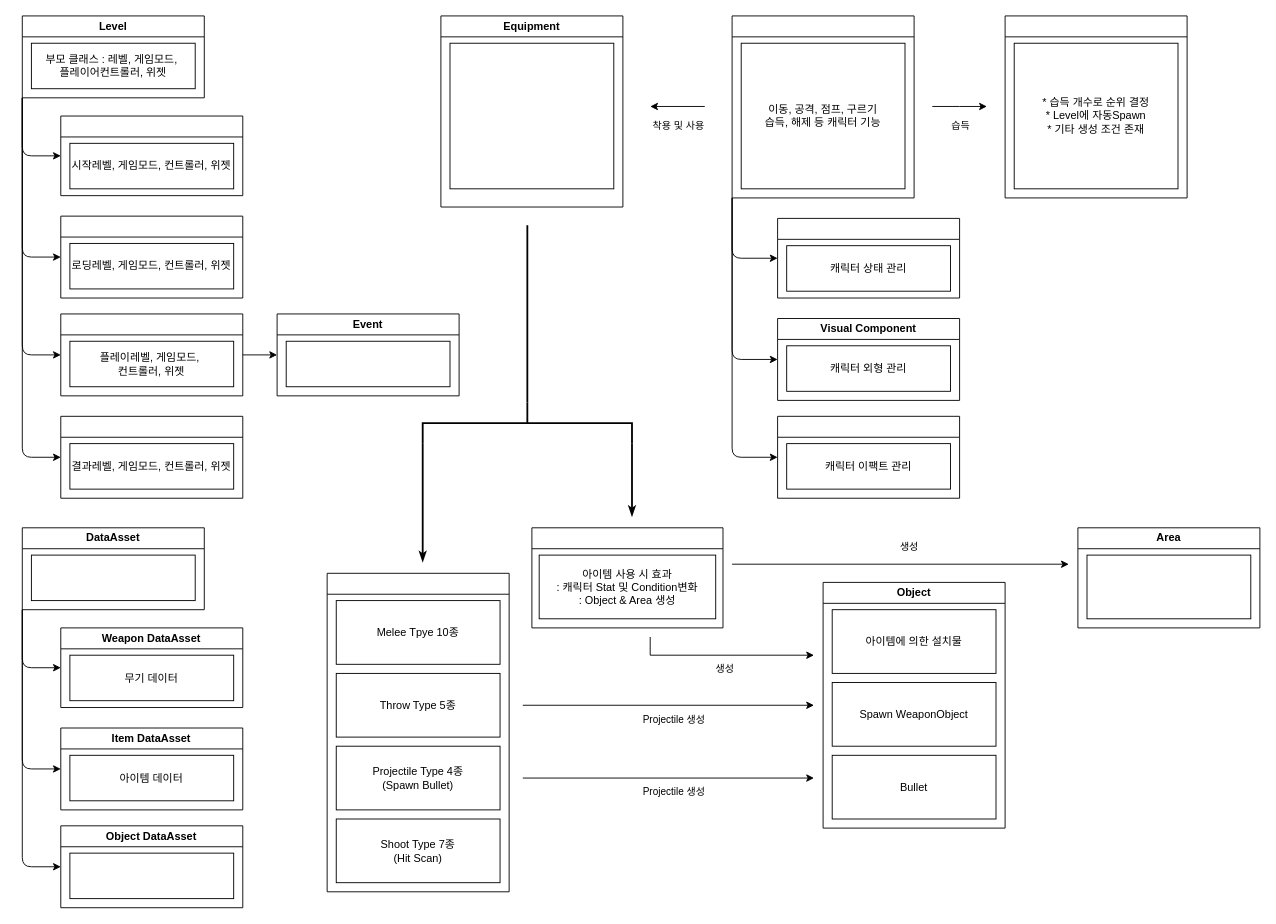
The diagram is 1276 pixels wide and 924 high, and some of its shapes have lost their labels. The shapes that lost their labels are listed below. From the top down, each one's box as (x1, y1, x2, y2) in pixels, then its label:
(449, 42, 614, 189): 무기 및 아이템의 공통 기능 구현
(731, 15, 914, 198): Player_Character
(1004, 15, 1187, 198): Coin
(60, 115, 243, 196): Title
(60, 215, 243, 298): Ready
(777, 217, 960, 298): Condition Component
(60, 313, 243, 396): Match
(285, 340, 450, 387): 매치 이벤트 5종
(60, 415, 243, 498): Result
(777, 415, 960, 498): Effect Component
(30, 554, 195, 601): 부모 클래스
(531, 527, 723, 628): Item
(1086, 554, 1251, 619): 캐릭터 Stat 및 Condition변화시키는 범위형 액터 3종
(326, 572, 509, 892): Weapon
(69, 852, 234, 899): 오브젝트 데이터
